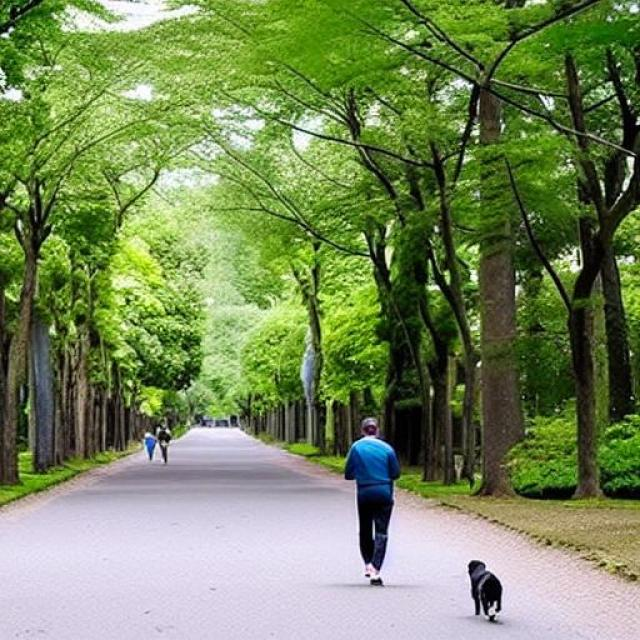Unleashed_Dog: (360, 486, 504, 623)
